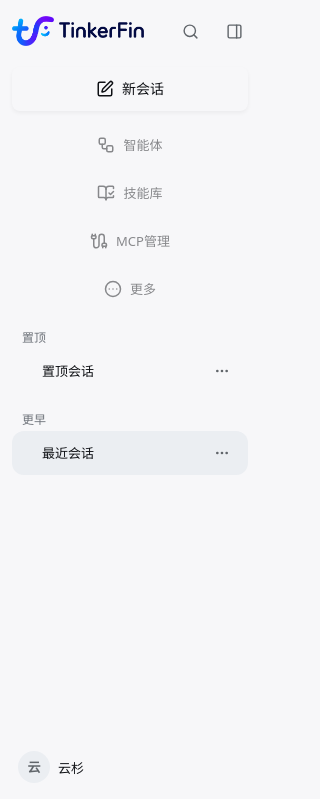
Test case: Sidebar › 仅渲染当前可用的产品导航，并禁用尚不可用的入口
Expected: the icon with class "lucide-book-open-check" is shown, left=98, top=184, right=116, bottom=202
Expected: the icon with class "lucide-workflow" is shown, left=98, top=136, right=116, bottom=154
Click the button named "打开用户菜单". click: (130, 767)
box: left=12, top=745, right=248, bottom=789
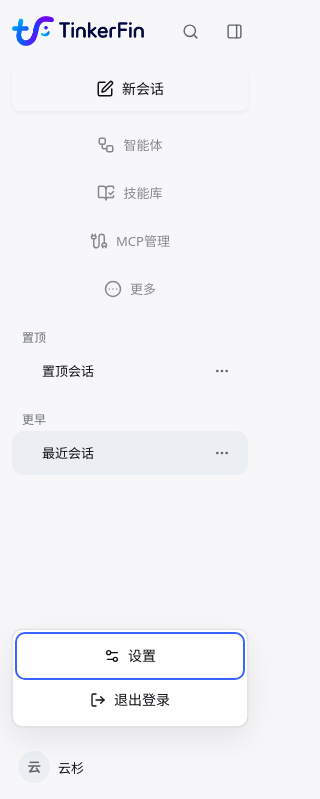
Expected: the menu item "设置" is enabled, left=17, top=634, right=243, bottom=678
